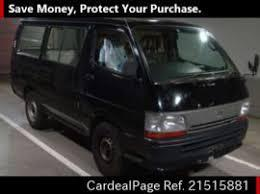van: (11, 16, 251, 177)
